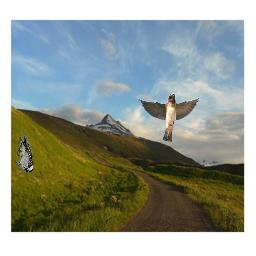Swallow: (138, 92, 203, 142)
Woodpecker: (13, 136, 33, 173)
